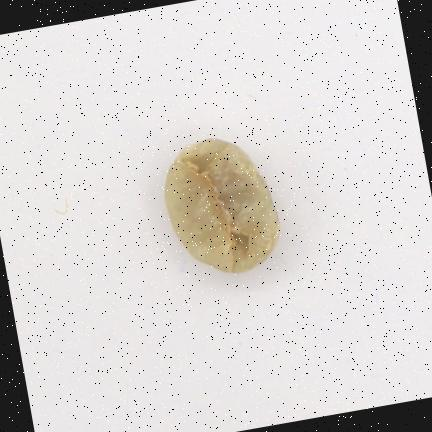immature: (165, 138, 278, 272)
